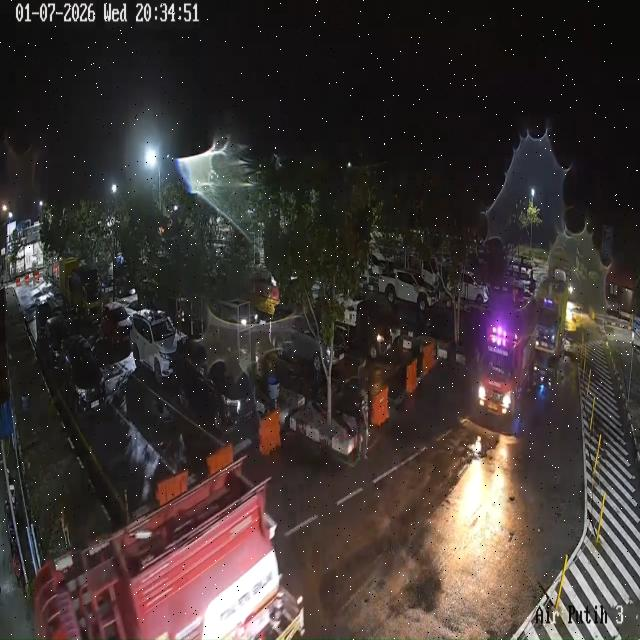Golongan IVA: (174, 340, 259, 433), (58, 335, 106, 416), (130, 309, 181, 384)
Golongan IVB: (378, 270, 439, 312)
Golongan VB: (32, 458, 304, 640), (477, 299, 537, 416), (535, 270, 570, 357), (58, 258, 103, 322)
